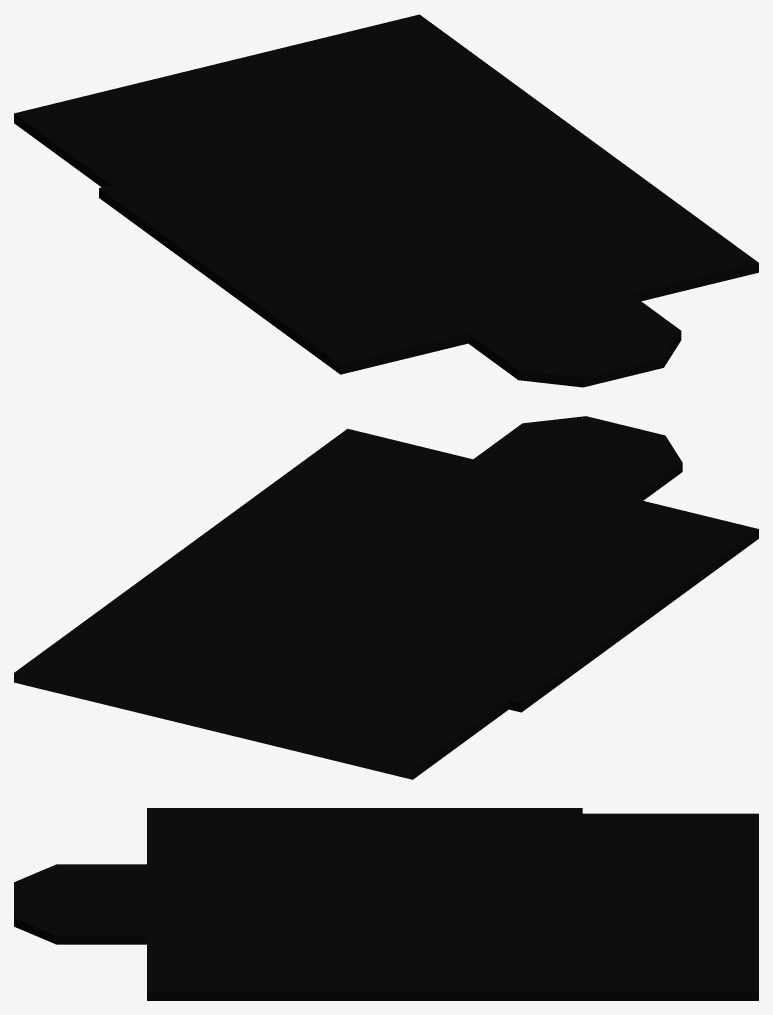
Rendered from upstairsceiling.obj.
3 renders of one model, top to bottom at view 1: azimuth 30°, elevation 25°; view 2: azimuth 150°, elevation 25°; view 3: azimuth 270°, elevation 25°, orthographic. The views are drawn at different scales.
Visible parts, largest first — view 1: upstairsceilingBaked BedroomBakedTriExport; view 2: upstairsceilingBaked BedroomBakedTriExport; view 3: upstairsceilingBaked BedroomBakedTriExport.
Boxes of the visible parts, x1,y1,x2,y2 form: upstairsceilingBaked BedroomBakedTriExport: [14, 14, 758, 387]; upstairsceilingBaked BedroomBakedTriExport: [14, 416, 758, 779]; upstairsceilingBaked BedroomBakedTriExport: [14, 808, 758, 1000].
Bounding box in the file's own units: 6.92 × 0.1551 × 11.84.
Materials: 1 (1 with a texture image).
